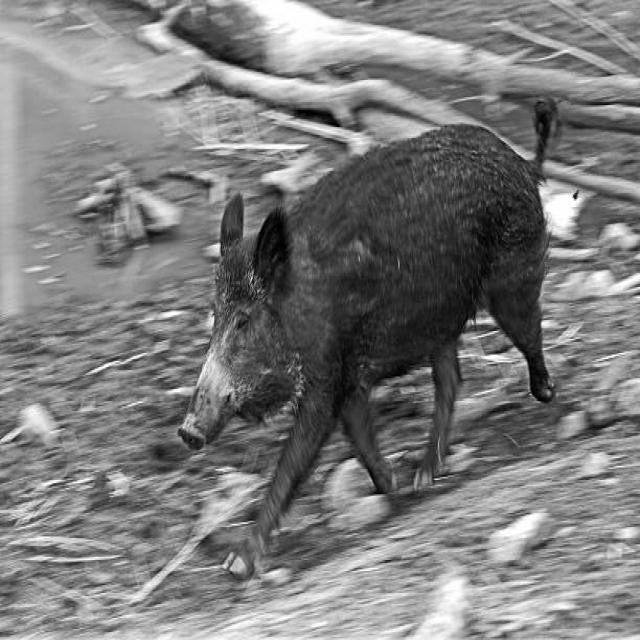boar: (179, 124, 555, 578)
